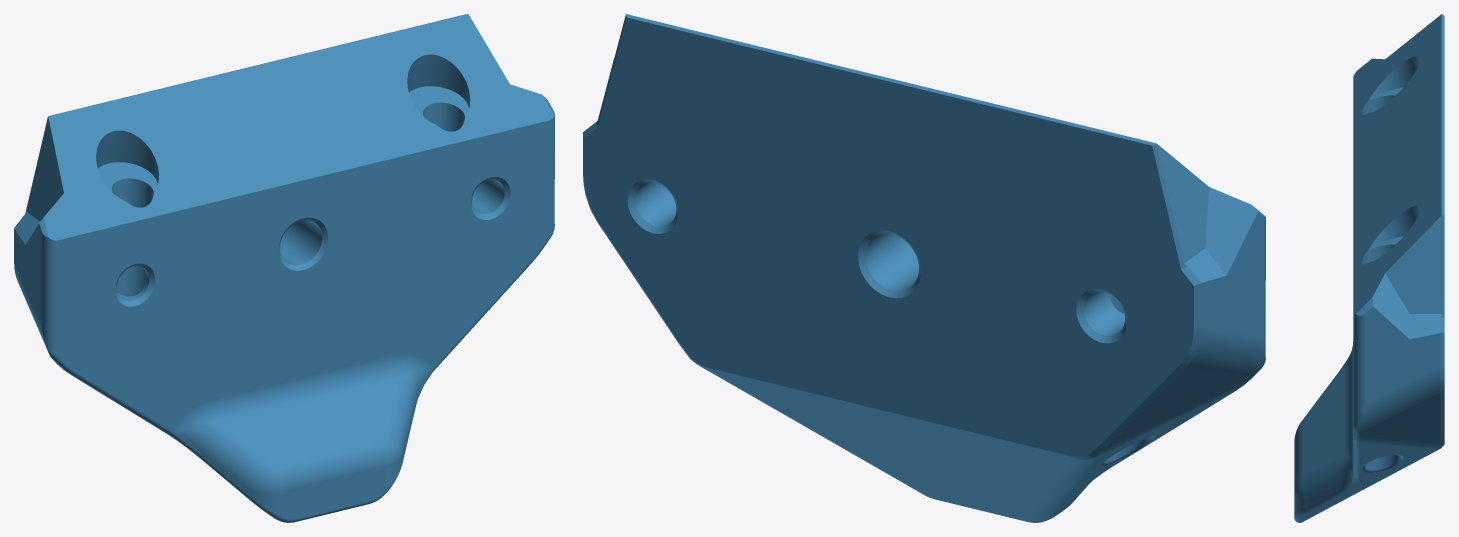
The model's file is A4T - WWG2 - Extruder Adapter [cw2-tap].gltf.
The picture shows the model from 3 angles, left to right: view 1: azimuth 30°, elevation 25°; view 2: azimuth 150°, elevation 25°; view 3: azimuth 270°, elevation 25°; orthographic projection. The views are drawn at different scales.
Parts seen in each view (by area): view 1: A4T - WWG2 - Extruder Adapter [cw2-tap]; view 2: A4T - WWG2 - Extruder Adapter [cw2-tap]; view 3: A4T - WWG2 - Extruder Adapter [cw2-tap].
Boxes of the visible parts, <box> form: A4T - WWG2 - Extruder Adapter [cw2-tap]: <box>14,14,554,522</box>; A4T - WWG2 - Extruder Adapter [cw2-tap]: <box>583,14,1265,522</box>; A4T - WWG2 - Extruder Adapter [cw2-tap]: <box>1294,14,1444,522</box>.
Bounding box in the file's own units: 0.0532 × 0.0393 × 0.0138.
